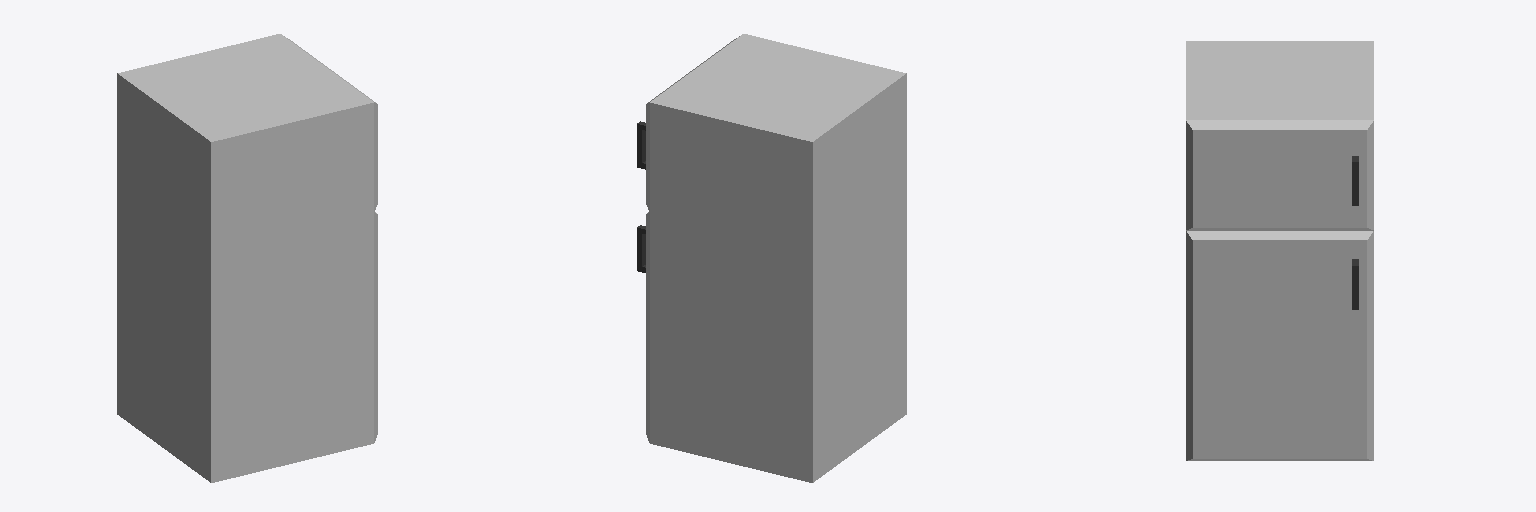
File: fridge.obj
3 views of the same model, side by side, from view 1: azimuth 30°, elevation 25°; view 2: azimuth 150°, elevation 25°; view 3: azimuth 270°, elevation 25° (orthographic).
Parts seen in each view (by area): view 1: fridge; view 2: fridge; view 3: fridge.
Part boxes in pixels (bbox=[...]): fridge: bbox=[117, 34, 377, 482]; fridge: bbox=[637, 34, 906, 482]; fridge: bbox=[1186, 41, 1373, 460].
Bounding box in the file's own units: 2.25 × 4 × 2.